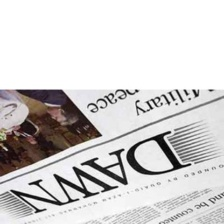news_paper: (0, 87, 224, 224)
